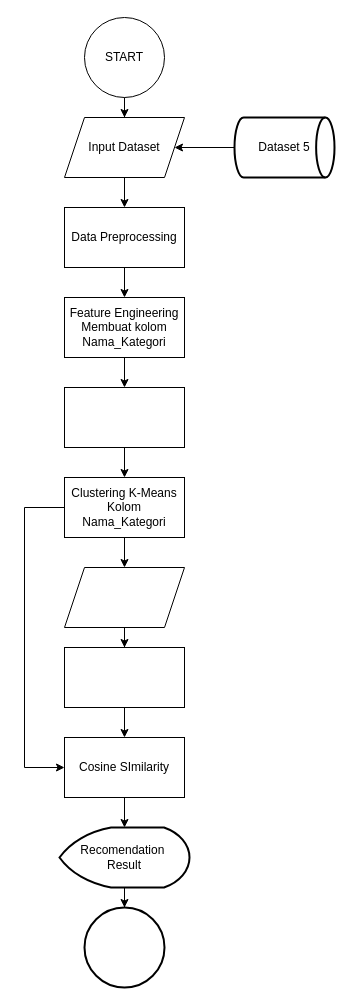
Image size: 353x1006. Some labels were removed from this diagram. Here are the shapes that lost their labels. From the top down, the centre of each, then its label:
the point at 124,417: Vectorize & TF-IDF Kolom Nama_Kategori
the point at 124,597: Input Product
the point at 124,677: Product Vectorize & TF-IDF
the point at 124,947: END
